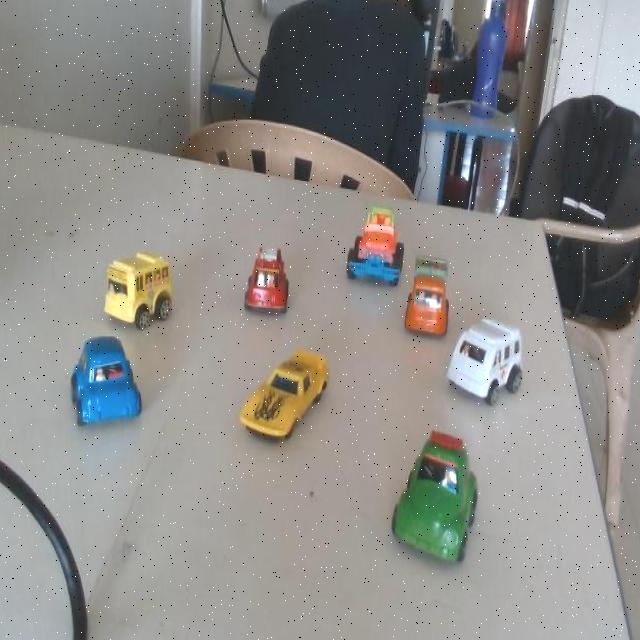car: (362, 407, 537, 616), (426, 287, 548, 438), (227, 343, 353, 458), (68, 333, 147, 438), (332, 193, 408, 289), (108, 250, 187, 340), (399, 241, 462, 351), (239, 238, 303, 330)
